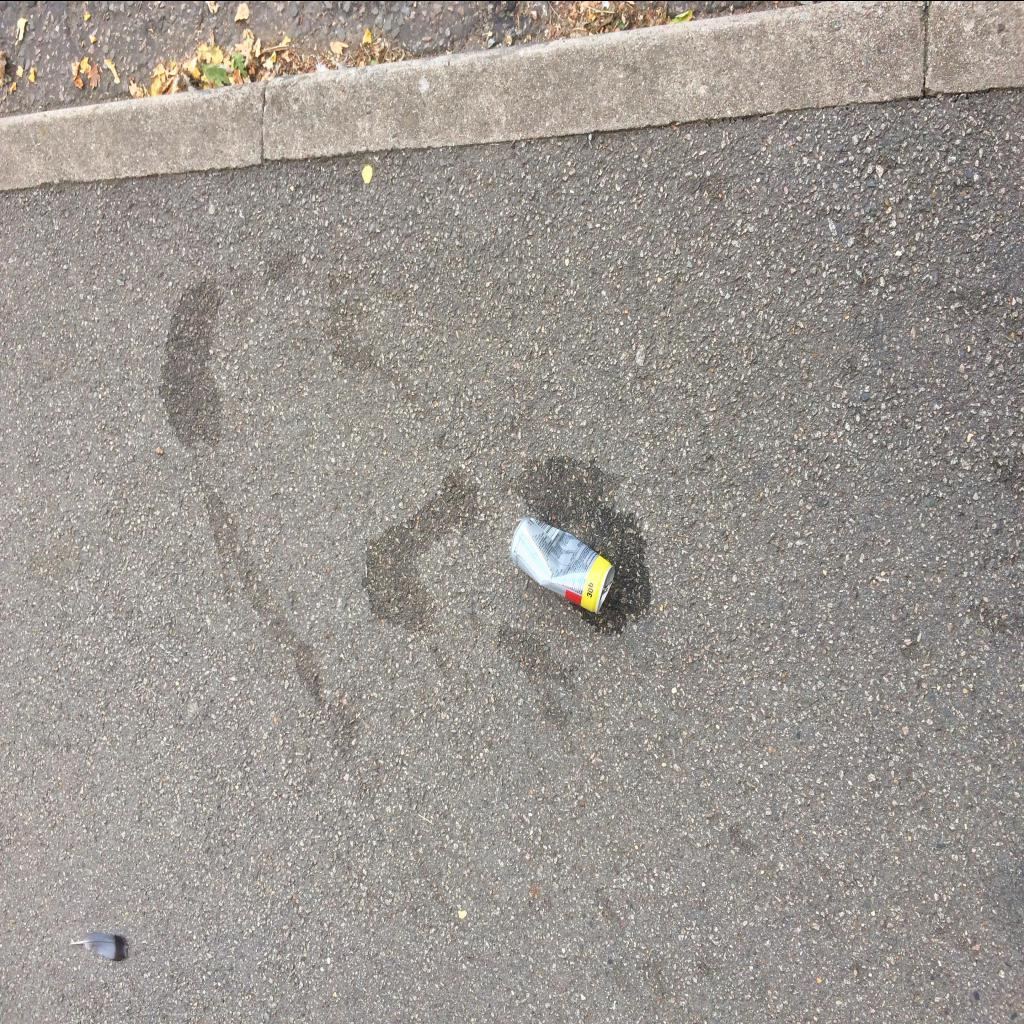Drink can: (511, 516, 615, 614)
Pop tab: (601, 579, 613, 596)
